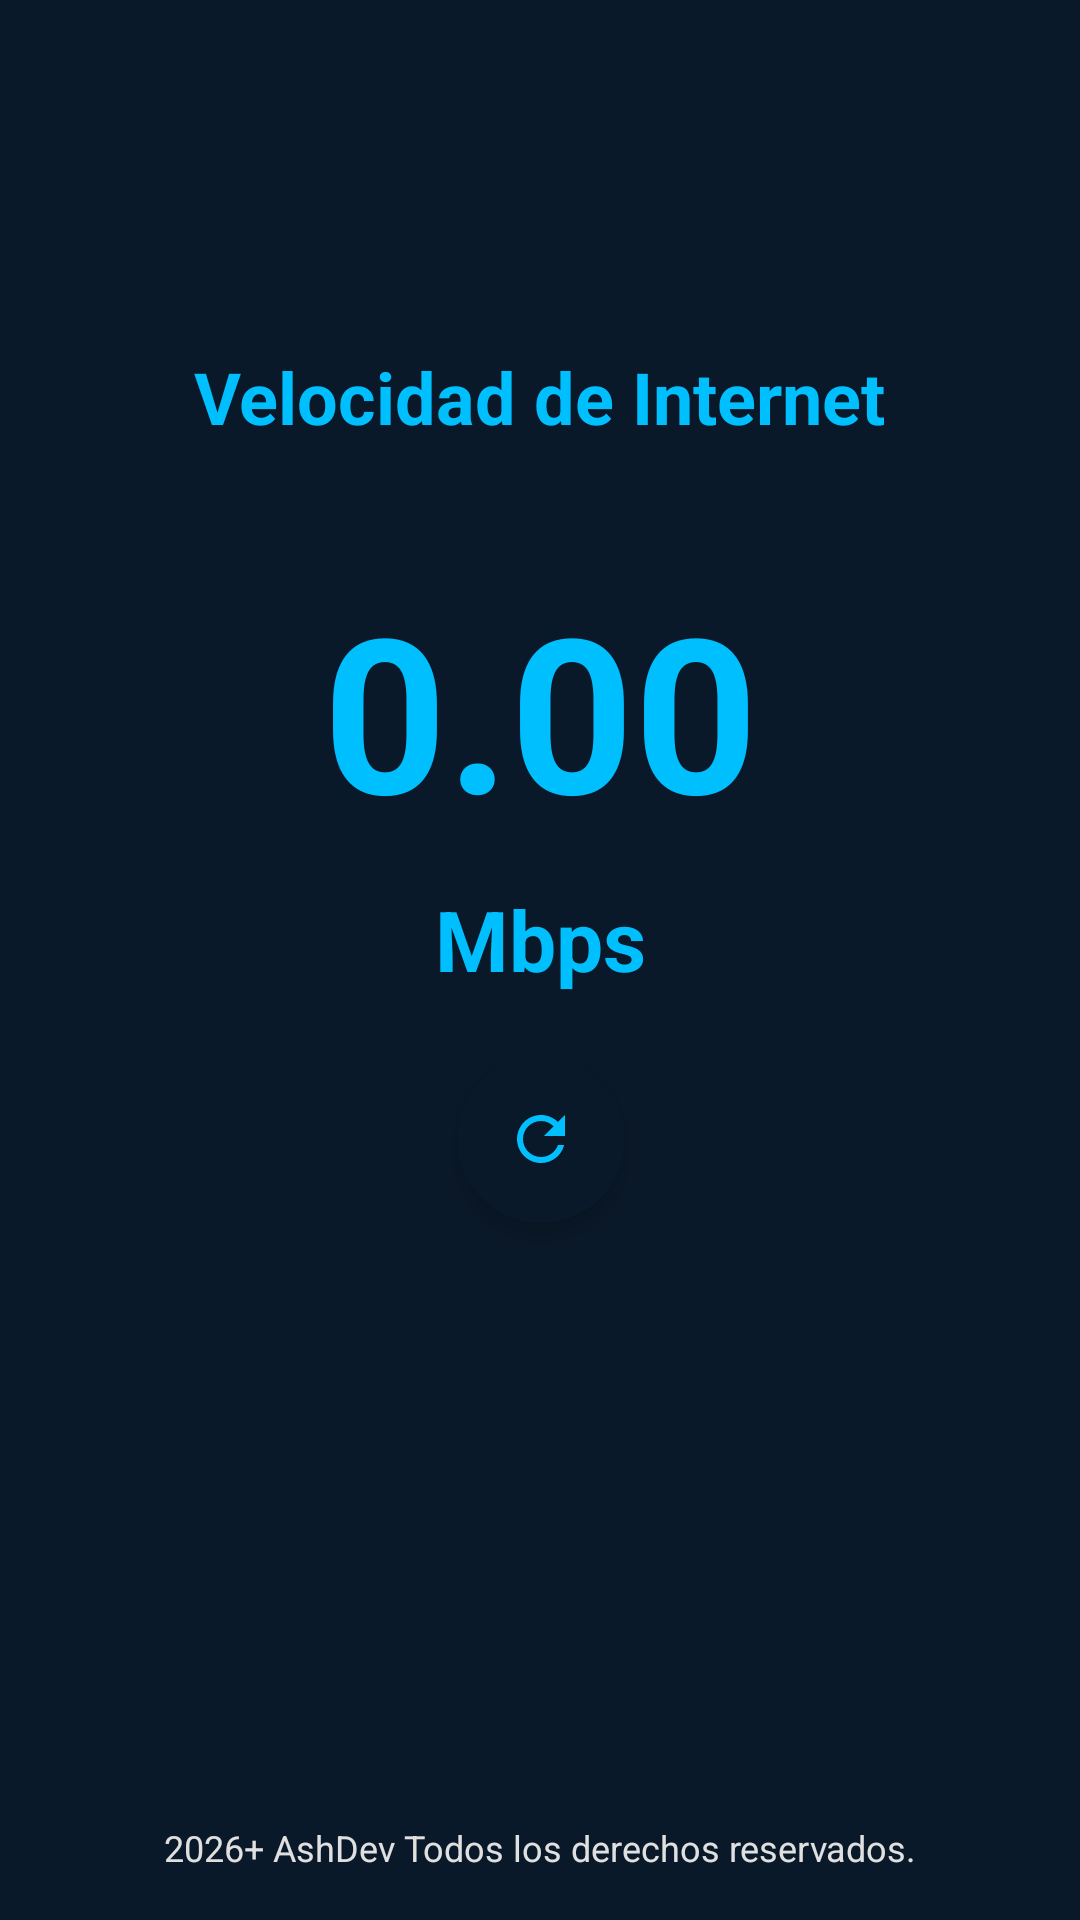

Icon bounding boxes for this 1080x1920 phone screenshot, format {"x1": x1, "y1": y1, "x2": x2, "y2": y2}:
refresh: {"x1": 517, "y1": 1115, "x2": 565, "y2": 1163}
